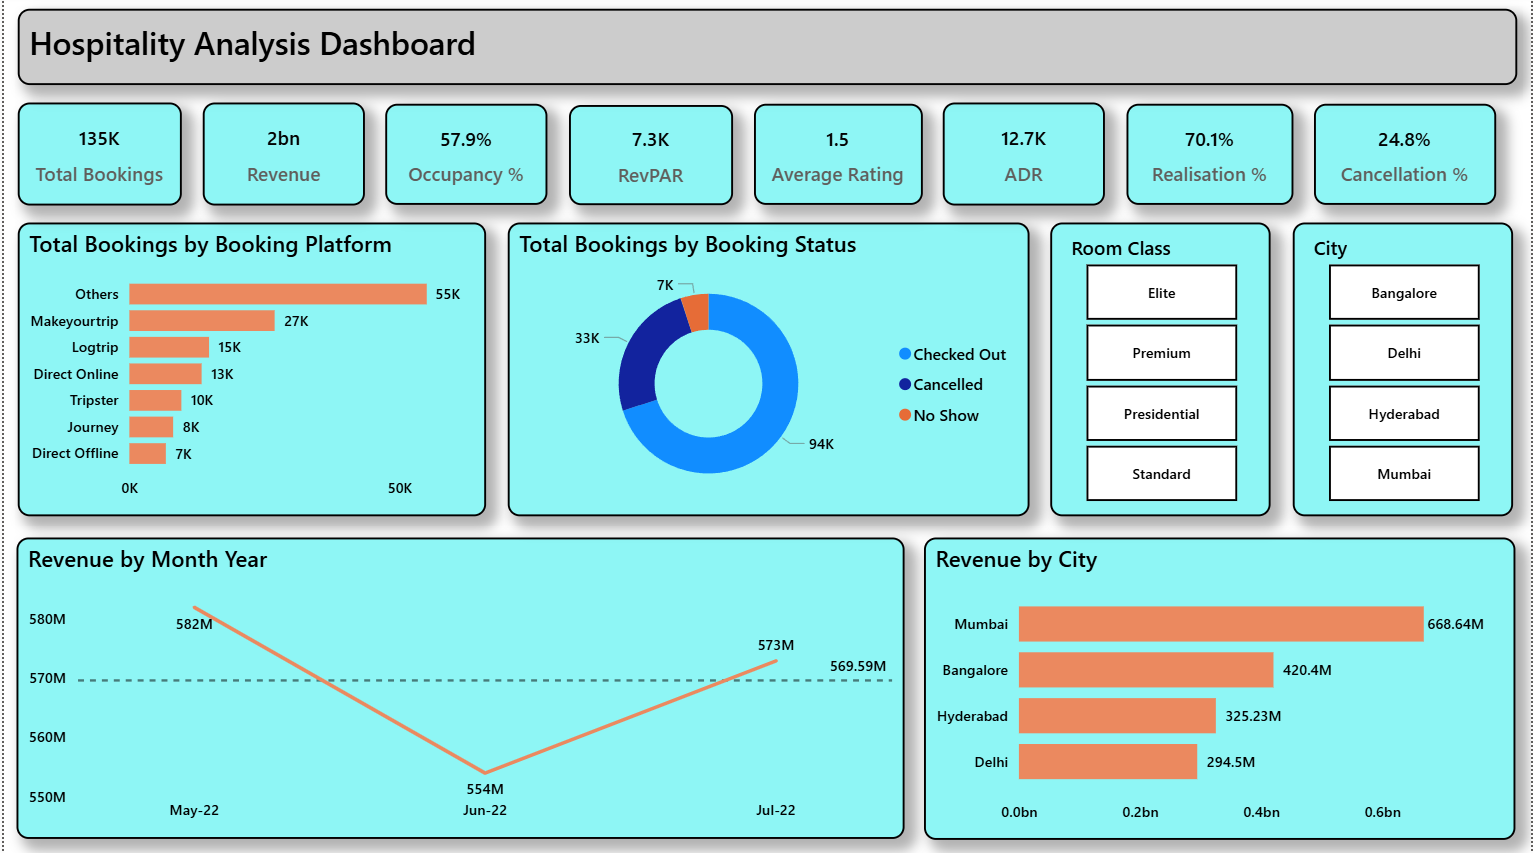

This screenshot's page, from the dashboard's own definition file:
{"tool":"powerbi","page":{"name":"Dashboard","canvas":[1280,720],"ordinal":0},"visuals":[{"type":"barChart","title":"Total Bookings by Booking Platform","fields":{"Category":["hospitality fact_bookings.booking_platform"],"Y":["hospitality fact_aggregated_bookings.Total Bookings"]},"box":[11.2,191.2,392.5,246.2],"z":0},{"type":"lineChart","title":"Revenue by Month Year","fields":{"Category":["Dim_Date.Month_year"],"Y":["hospitality fact_bookings.Revenue"]},"box":[10,455,745,252.5],"z":1000},{"type":"donutChart","title":"Total Bookings by Booking Status","fields":{"Category":["hospitality fact_bookings.booking_status"],"Y":["hospitality fact_aggregated_bookings.Total Bookings"]},"box":[422.1,191.2,437.5,246.2],"z":2000},{"type":"card","fields":{"Values":["hospitality dim_date.Bookings_1"]},"box":[11.2,90,137.5,86.2],"z":3000},{"type":"card","fields":{"Values":["hospitality fact_bookings.Revenue"]},"box":[166.2,90,136.2,86.2],"z":4000},{"type":"card","fields":{"Values":["hospitality fact_aggregated_bookings.Occupancy %"]},"box":[320,91.2,136.2,85],"z":5000},{"type":"card","fields":{"Values":["hospitality fact_aggregated_bookings.ADR"]},"box":[787.5,90,136.2,86.2],"z":6000},{"type":"card","fields":{"Values":["hospitality fact_bookings.RevPAR"]},"box":[473.8,92.5,137.5,83.8],"z":7000},{"type":"card","fields":{"Values":["Dim_Date.Realisation %"]},"box":[941.2,91.2,140,85],"z":8000},{"type":"card","fields":{"Values":["Dim_Date.Average Rating"]},"box":[628.8,91.2,141.2,85],"z":9000},{"type":"card","fields":{"Values":["Dim_Date.Cancellation %"]},"box":[1098.8,91.2,152.5,85],"z":10000},{"type":"barChart","title":"Revenue by City","fields":{"Category":["hospitality dim_hotel.city"],"Y":["hospitality fact_bookings.Revenue"]},"box":[771.2,455,496.2,253.8],"z":11000},{"type":"slicer","fields":{"Values":["hospitality dim_rooms.room_class"]},"box":[877.9,191.2,185,246.2],"z":12000},{"type":"slicer","fields":{"Values":["hospitality dim_hotel.city"]},"box":[1081.2,191.2,185,246.2],"z":13000},{"type":"textbox","box":[11.2,11.2,1257.5,63.8],"z":14000}]}

Visuals, with their boxes in screenshot pixels (x1, y1, x2, y2), scaled from the page's 1280x720 canvas onto the 1533x853 screenshot:
"Total Bookings by Booking Platform" barChart: BBox(13, 227, 483, 518)
"Revenue by Month Year" lineChart: BBox(12, 539, 904, 838)
"Total Bookings by Booking Status" donutChart: BBox(506, 227, 1030, 518)
card - hospitality dim_date.Bookings_1: BBox(13, 107, 178, 209)
card - hospitality fact_bookings.Revenue: BBox(199, 107, 362, 209)
card - hospitality fact_aggregated_bookings.Occupancy %: BBox(383, 108, 546, 209)
card - hospitality fact_aggregated_bookings.ADR: BBox(943, 107, 1106, 209)
card - hospitality fact_bookings.RevPAR: BBox(567, 110, 732, 209)
card - Dim_Date.Realisation %: BBox(1127, 108, 1295, 209)
card - Dim_Date.Average Rating: BBox(753, 108, 922, 209)
card - Dim_Date.Cancellation %: BBox(1316, 108, 1499, 209)
"Revenue by City" barChart: BBox(924, 539, 1518, 840)
slicer - hospitality dim_rooms.room_class: BBox(1051, 227, 1273, 518)
slicer - hospitality dim_hotel.city: BBox(1295, 227, 1516, 518)
textbox: BBox(13, 13, 1519, 89)
